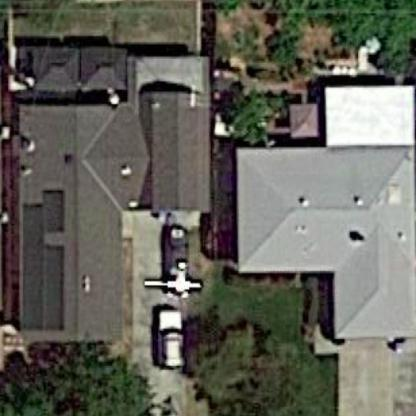car: (157, 222, 199, 302), (148, 302, 190, 370)
solar_panel: (22, 179, 75, 336)
